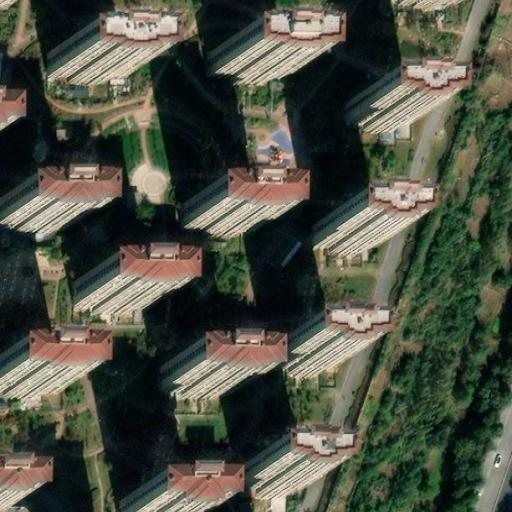building: (175, 203, 258, 236), (152, 364, 235, 397), (211, 44, 294, 77), (68, 278, 151, 311), (49, 44, 131, 77), (275, 335, 345, 371), (318, 209, 388, 245), (349, 89, 419, 125), (238, 457, 307, 493), (0, 200, 69, 234), (0, 362, 63, 396)
